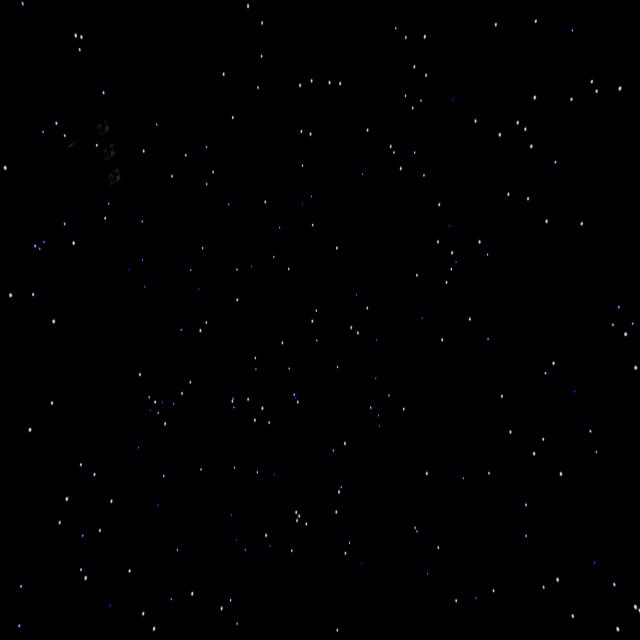medium_debris: (56, 83, 171, 199)
